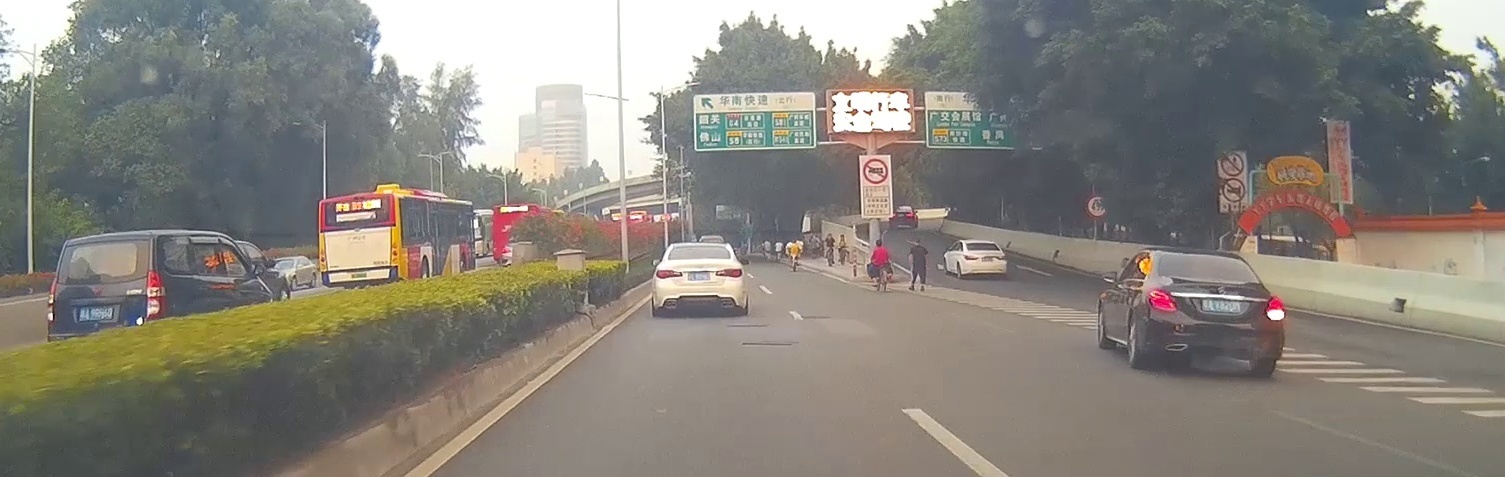L_light: (1148, 288, 1178, 311), (46, 279, 56, 321), (655, 269, 682, 279), (319, 249, 327, 270)
R_light: (146, 270, 161, 318), (1265, 295, 1283, 321), (715, 268, 742, 277), (391, 242, 399, 264)
T_light: (1191, 256, 1217, 261), (91, 242, 112, 246), (347, 200, 361, 204), (692, 246, 706, 249)
day-no: (44, 231, 166, 352), (317, 192, 400, 292), (654, 242, 745, 316)
day-right: (1141, 248, 1285, 376)
